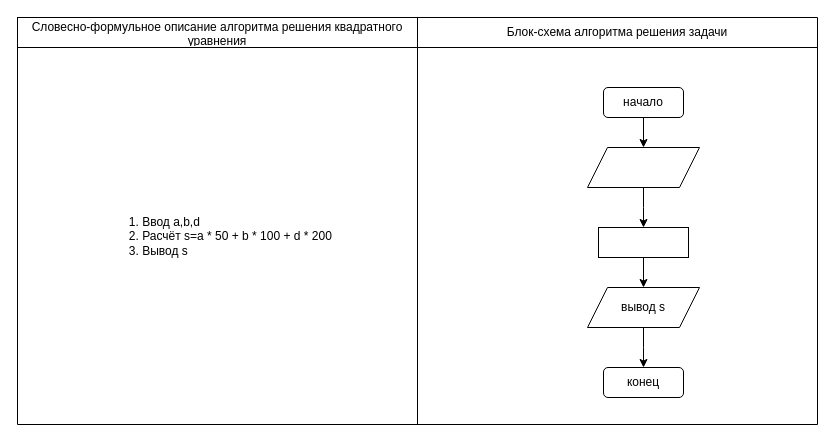
This 835x442 diagram has some shape labels left out. The shapes that lost their labels are listed below. From the top down, each one's centre as x and y in pixels, then its label:
At point (643, 167): "ввод a, b, d".
At point (643, 242): "s=a * 50 + b * 100 + d * 200".
